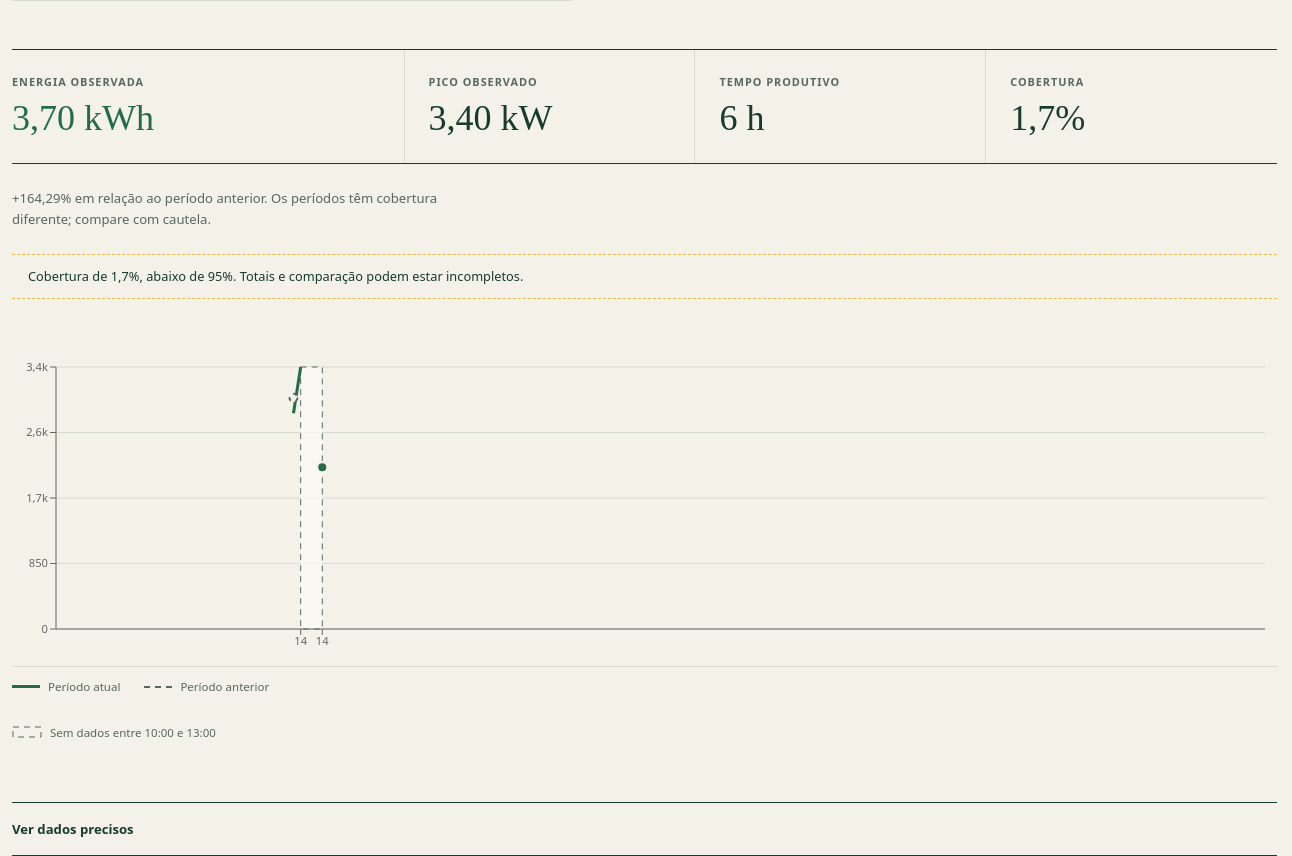
Test: HistoryPage › shows an explicit dashed gap, low-coverage warning and precise accessible table
(page scrolled)
Hover over the button "Sem dados entre 10:00 e 13:00" at (114, 732), box x1=12 y1=710 x2=216 y2=754
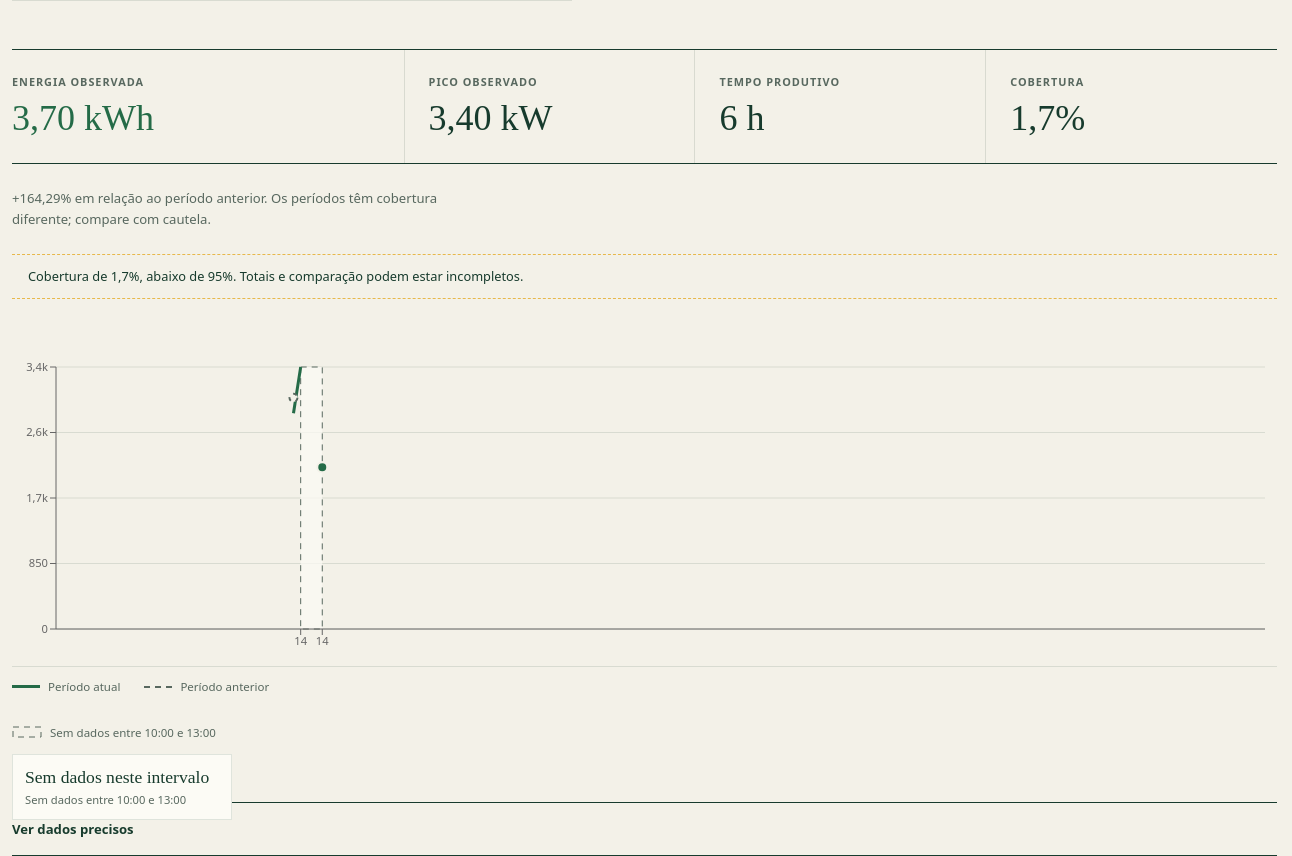
Expected: the message reads "Cobertura de 1,7%, abaixo de 95%. Totais e comparação podem estar incompletos.", x1=12 y1=254 x2=1277 y2=299
Result: the tooltip shows "Sem dados neste intervalo" at x1=25 y1=767 x2=209 y2=787
Click the heading "Ver dados precisos". click: (73, 829)
box: x1=12 y1=820 x2=134 y2=838
(page scrolled)
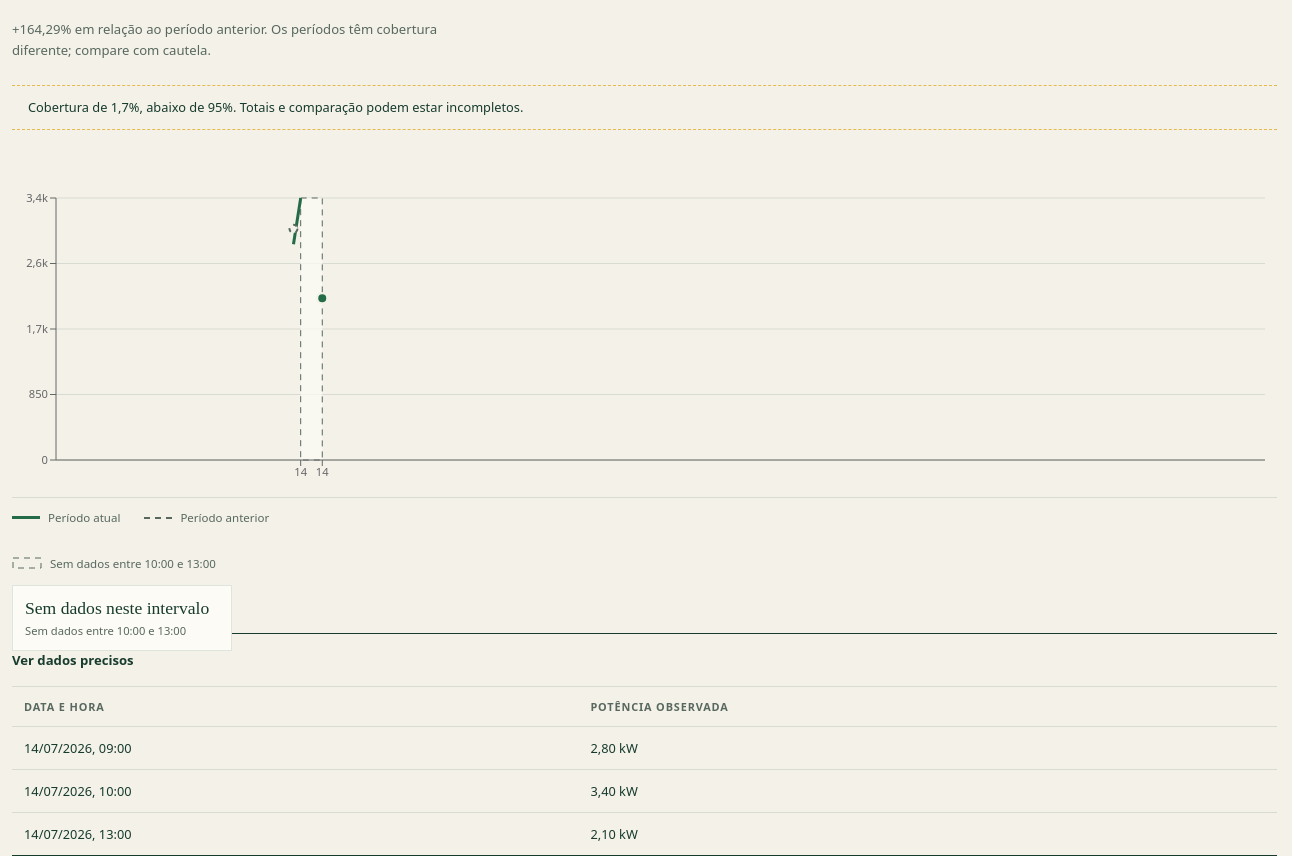
Result: the text "14/07/2026, 09:00" is shown at x1=12 y1=727 x2=578 y2=770
Result: the text "2,80 kW" is shown at x1=578 y1=727 x2=1277 y2=770
